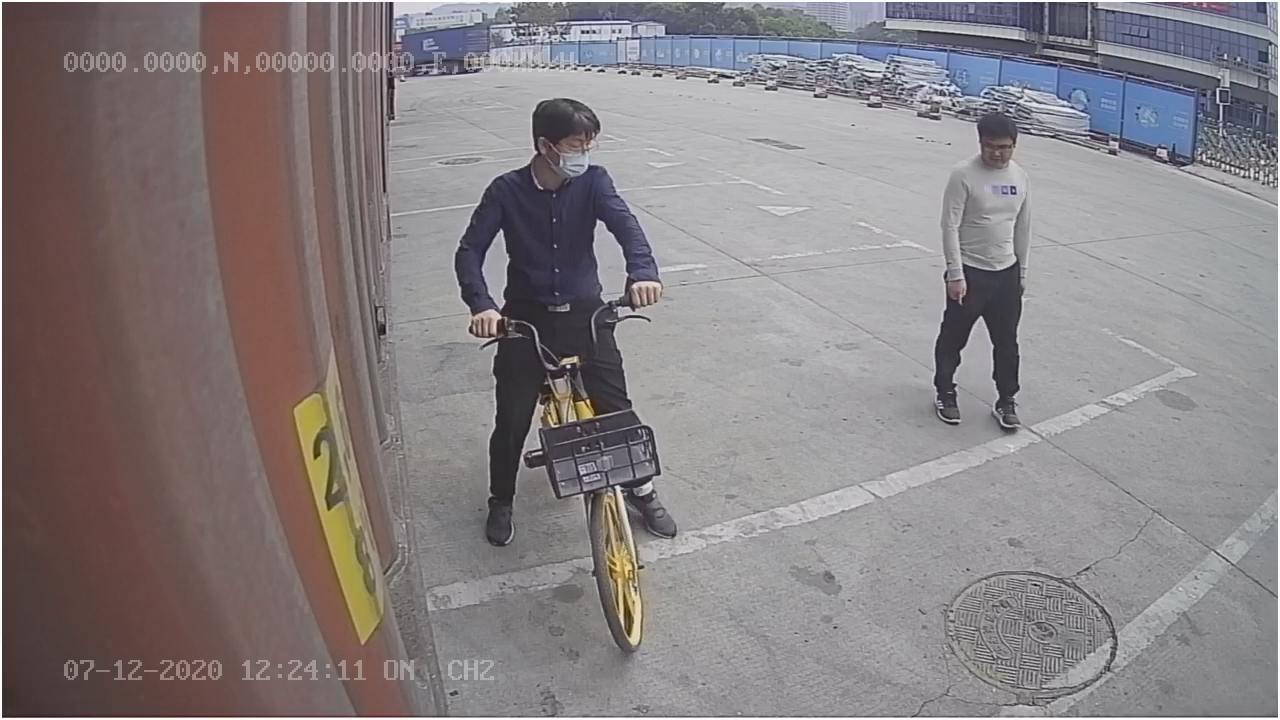person: (923, 110, 1042, 436)
